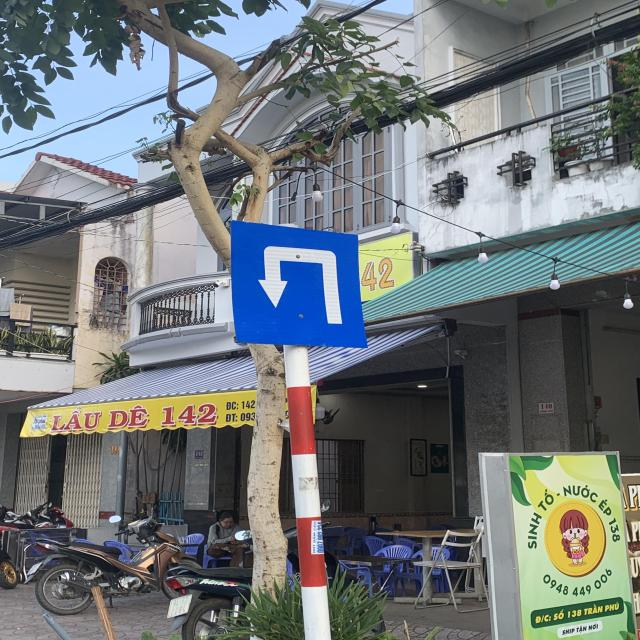Den_Giao_Thong: (227, 224, 368, 346)
